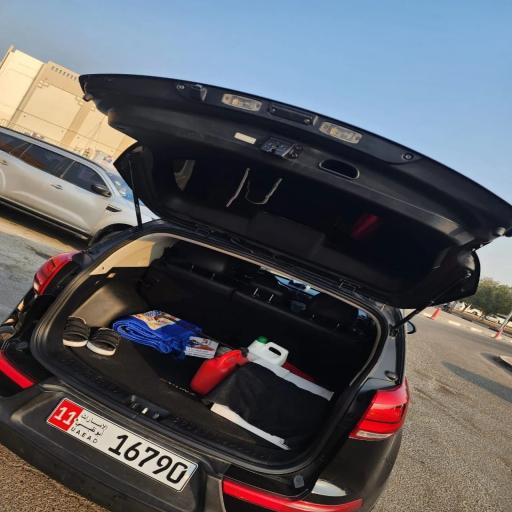license-plates: (45, 398, 198, 492)
